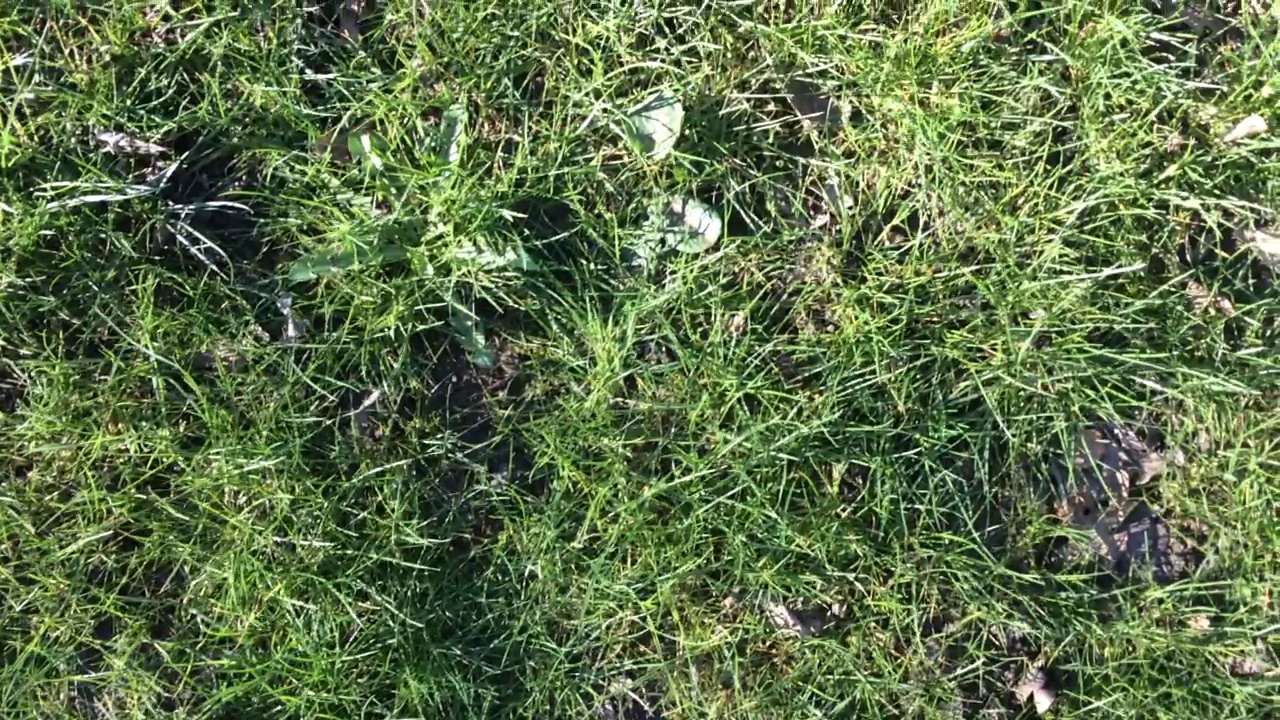rumex: (650, 196, 724, 254), (627, 84, 685, 158)
